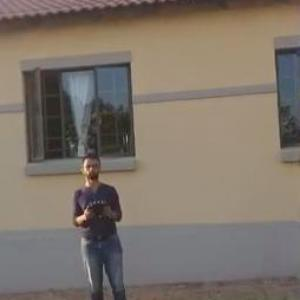follow: (70, 149, 134, 299)
